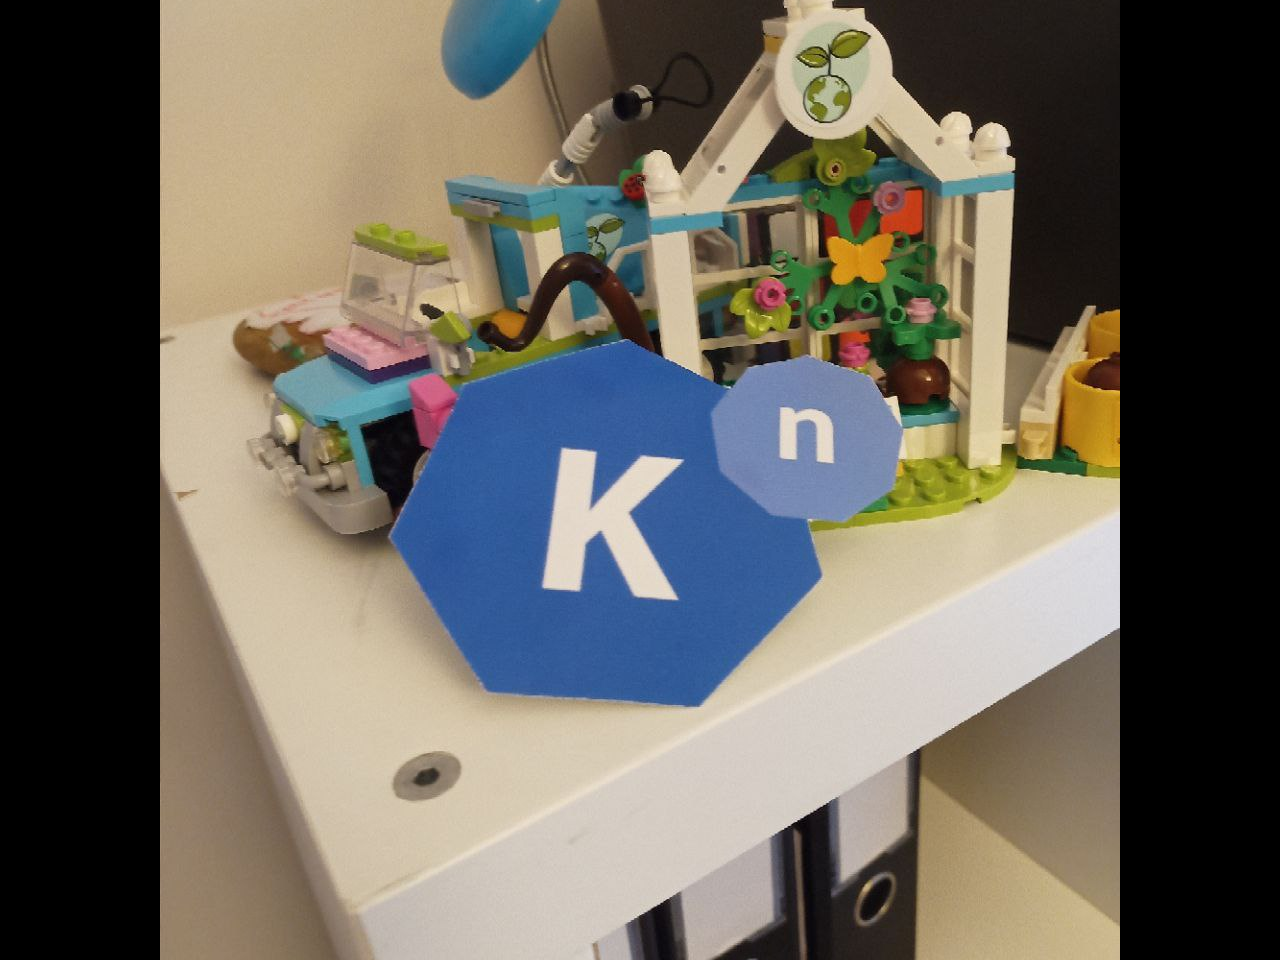knative: (390, 336, 903, 704)
